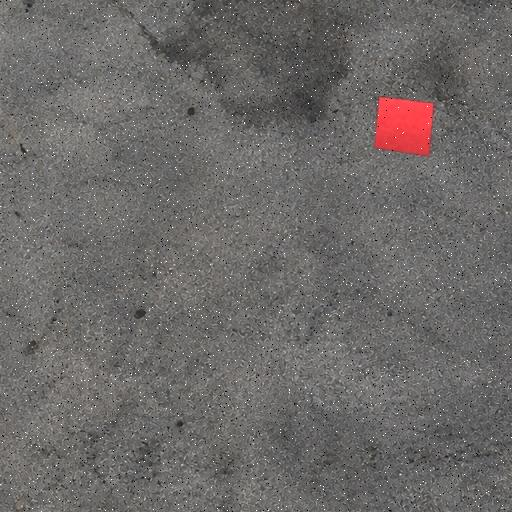RED_SQUARE: (374, 96, 434, 158)
